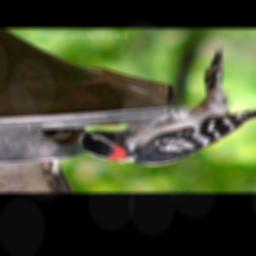Woodpecker: (69, 46, 256, 167)
